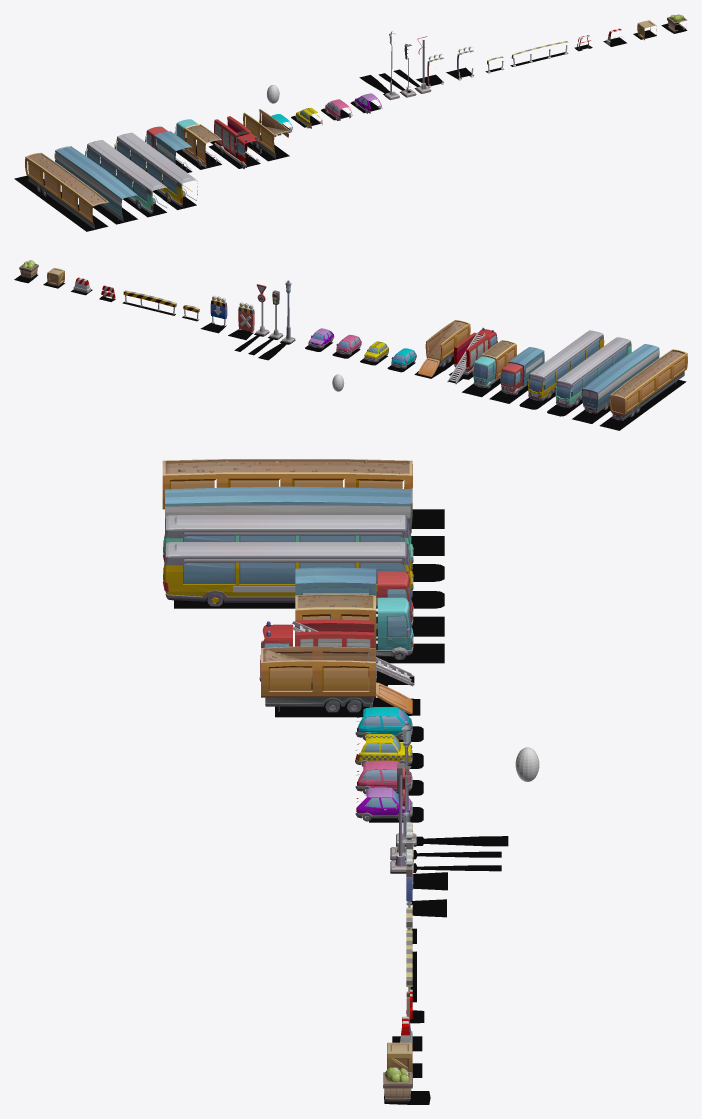
File: Obstacles_Flattened.glb
The picture shows the model from 3 angles, top to bottom: view 1: azimuth 30°, elevation 25°; view 2: azimuth 150°, elevation 25°; view 3: azimuth 270°, elevation 25°; orthographic projection. The views are drawn at different scales.
Visible parts, largest first — view 1: city_double8_truckTrailor02.prefab, city_double8_bus01.prefab, city_double8_bus02.prefab, city_double8_truckTrailor01.prefab, city_ramp5_fireTruckRamp02.prefab, city_double4_truck01.prefab, city_ramp5_truckRamp01.prefab, city_double4_truck02.prefab, truckTrailor8_shadow.001, fireTruckRamp02_shadow; view 2: city_double8_truckTrailor02.prefab, city_double8_bus01.prefab, city_double8_bus02.prefab, city_double8_truckTrailor01.prefab, city_ramp5_truckRamp01.prefab, city_ramp5_fireTruckRamp02.prefab, city_double4_truck01.prefab, city_double4_truck02.prefab, truckTrailor8_shadow.001, city_staticDouble1_roadworks02.prefab, city_single2_car04.prefab, city_single2_car02.prefab (+10 smaller); view 3: city_double8_bus01.prefab, city_ramp5_truckRamp01.prefab, city_double8_truckTrailor02.prefab, city_double8_truckTrailor01.prefab, city_double8_bus02.prefab, city_double4_truck01.prefab, city_ramp5_fireTruckRamp02.prefab, city_double4_truck02.prefab, bus8_shadow, city_single2_car04.prefab, city_single2_car01.prefab, city_single2_car03.prefab (+3 smaller).
Boxes of the visible parts, box(x1,y1,x2,y2) form: city_double8_truckTrailor02.prefab: box(25, 152, 108, 229); city_double8_bus01.prefab: box(114, 132, 197, 207); city_double8_bus02.prefab: box(85, 140, 168, 214); city_double8_truckTrailor01.prefab: box(54, 146, 137, 221); city_ramp5_fireTruckRamp02.prefab: box(214, 116, 261, 168); city_double4_truck01.prefab: box(174, 119, 221, 168); city_ramp5_truckRamp01.prefab: box(243, 109, 290, 158); city_double4_truck02.prefab: box(145, 126, 191, 169); truckTrailor8_shadow.001: box(14, 175, 108, 231); fireTruckRamp02_shadow: box(208, 141, 260, 168); city_double8_truckTrailor02.prefab: box(609, 349, 687, 420); city_double8_bus01.prefab: box(527, 330, 604, 401); city_double8_bus02.prefab: box(554, 337, 631, 408); city_double8_truckTrailor01.prefab: box(581, 344, 659, 413); city_ramp5_truckRamp01.prefab: box(418, 320, 470, 376); city_ramp5_fireTruckRamp02.prefab: box(447, 327, 497, 384); city_double4_truck01.prefab: box(472, 340, 516, 388); city_double4_truck02.prefab: box(500, 347, 544, 395); truckTrailor8_shadow.001: box(599, 380, 686, 430); city_staticDouble1_roadworks02.prefab: box(238, 302, 254, 333); city_single2_car04.prefab: box(391, 348, 416, 368); city_single2_car02.prefab: box(336, 334, 361, 355); city_double8_bus01.prefab: box(163, 542, 413, 606); city_ramp5_truckRamp01.prefab: box(261, 646, 412, 713); city_double8_truckTrailor02.prefab: box(162, 459, 412, 509); city_double8_truckTrailor01.prefab: box(165, 486, 412, 540); city_double8_bus02.prefab: box(163, 515, 413, 570); city_double4_truck01.prefab: box(295, 594, 413, 659); city_ramp5_fireTruckRamp02.prefab: box(259, 619, 414, 686); city_double4_truck02.prefab: box(295, 567, 413, 629); bus8_shadow: box(174, 591, 444, 608); city_single2_car04.prefab: box(355, 707, 412, 740); city_single2_car01.prefab: box(355, 787, 412, 821); city_single2_car03.prefab: box(355, 734, 412, 766).
Bounding box in the file's own units: 44.26 × 4.79 × 11.85.
